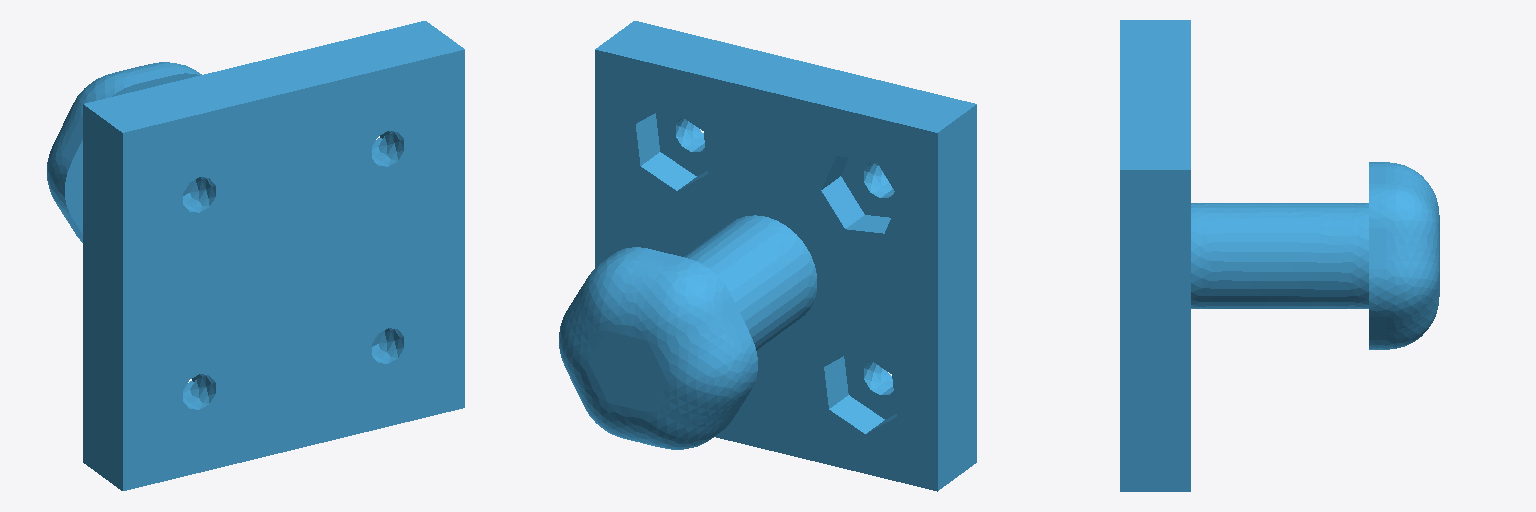
The robot description file, URDF, robot "hexagon_4-3":
<?xml version="1.0"?>

<robot name="hexagon_4-3">
	<link name="world">
        </link>

        <joint name="world_to_indenter" type="prismatic">
                <parent link="world"/>
                <child link="indenter"/>
                <origin rpy="0.0 0.0 0.0" xyz="0.0 0.0 0.0"/>
                <axis xyz="0 1 0"/>
                <dynamics damping="0.0" friction="0.0"/>
                <limit lower="0.0" upper="0.1" velocity="1e9" effort="1e9"/>
        </joint>

	<link name="indenter">
		<visual>
			<origin rpy="0.0 0.0 0.0" xyz="0.0 0.0 0.0"/>
			<geometry>
				<mesh filename="../meshes/hexagon_4-3_0.2.stl" scale="0.001 0.001 0.001"/>
			</geometry>
		</visual>
		<collision>
			<origin rpy="0.0 0.0 0.0" xyz="0.0 0.0 0.0"/>
			<geometry>
				<mesh filename="../meshes/hexagon_4-3_0.2.stl" scale="0.001 0.001 0.001"/>
			</geometry>
		</collision>
		<!-- <inertial>
			<origin rpy="0.0 0.0 0.0" xyz="0.0 -14.0636e-3 0.0"/>
			<mass value="0.00075752"/>
			<inertia ixx="2.03201e-8" iyy="1.24370e-8" izz="1.90589e-8" ixy="0.0" ixz="-1.96737e-15" iyz="0.0"/>
		</inertial> -->
	</link>
</robot>

--- Facts derived from the render (not from the file) ---
Views: 3 orthographic renders of the robot side by side, from view 1: azimuth 30°, elevation 25°; view 2: azimuth 150°, elevation 25°; view 3: azimuth 270°, elevation 25°.
Model hexagon_4-3 with 2 links and 1 joints (1 prismatic), rooted at world, posed all joints at 0.
Links seen in each view (by area): view 1: indenter; view 2: indenter; view 3: indenter.
Link boxes in pixels (x1,y1,x2,y2): indenter: (47, 21, 464, 490); indenter: (559, 21, 976, 491); indenter: (1120, 20, 1439, 491).
Size in the robot's own frame: 0.02 by 0.018 by 0.02 metres.
1 mesh visuals loaded from 1 distinct referenced files (1 ASCII STL).
